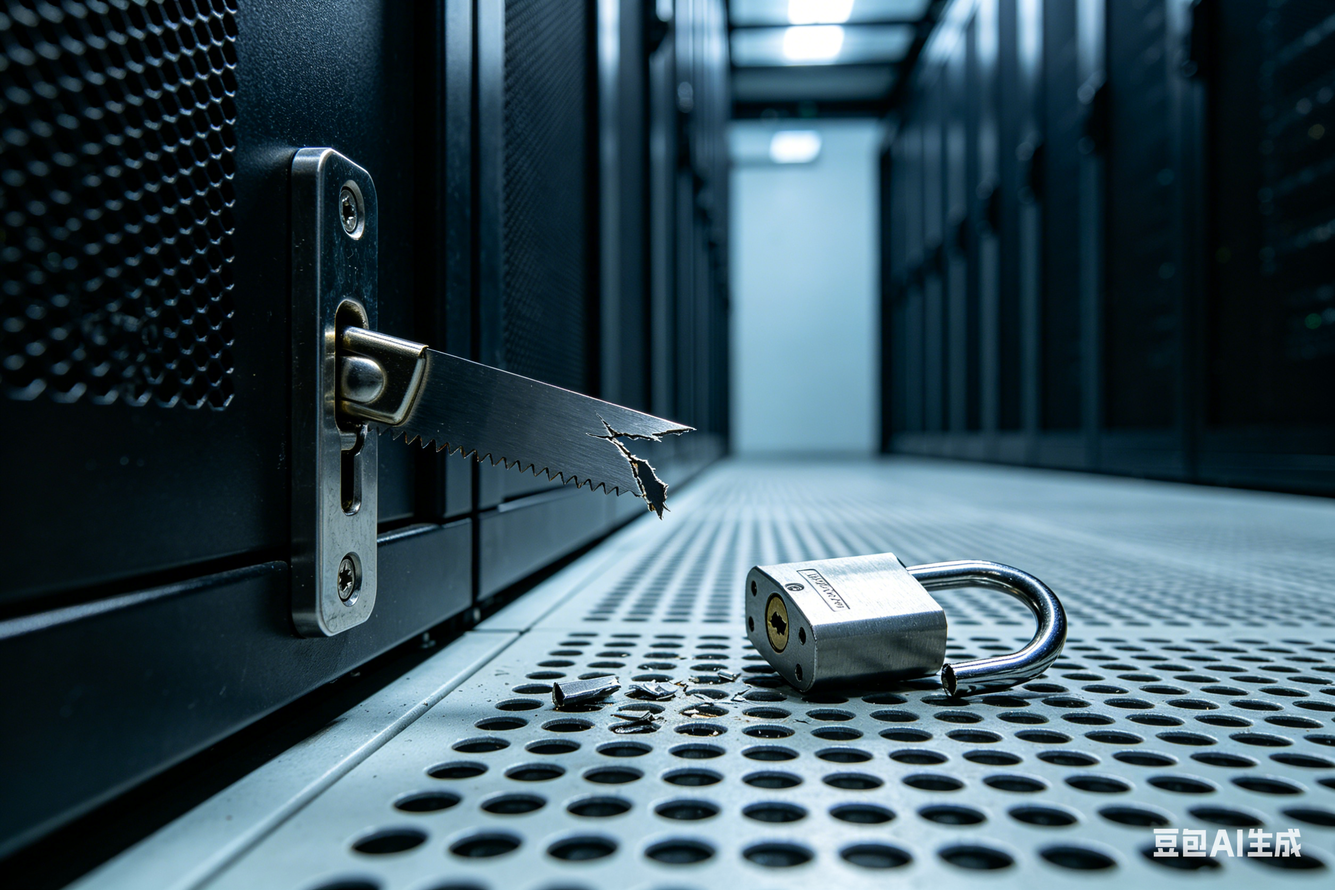BadLock: (568, 394, 724, 534)
